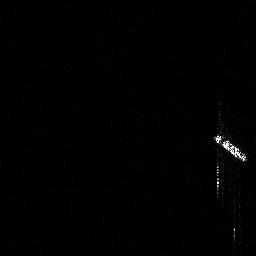ship: (210, 129, 251, 165)
